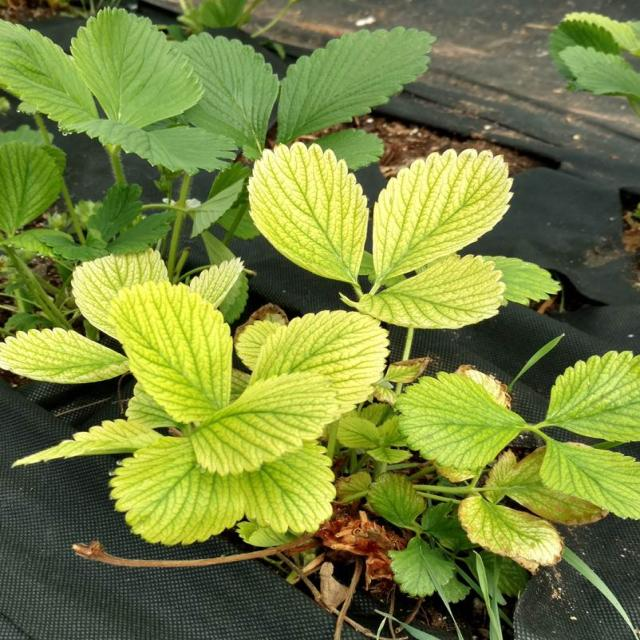Chlorosis: (0, 158, 591, 515)
